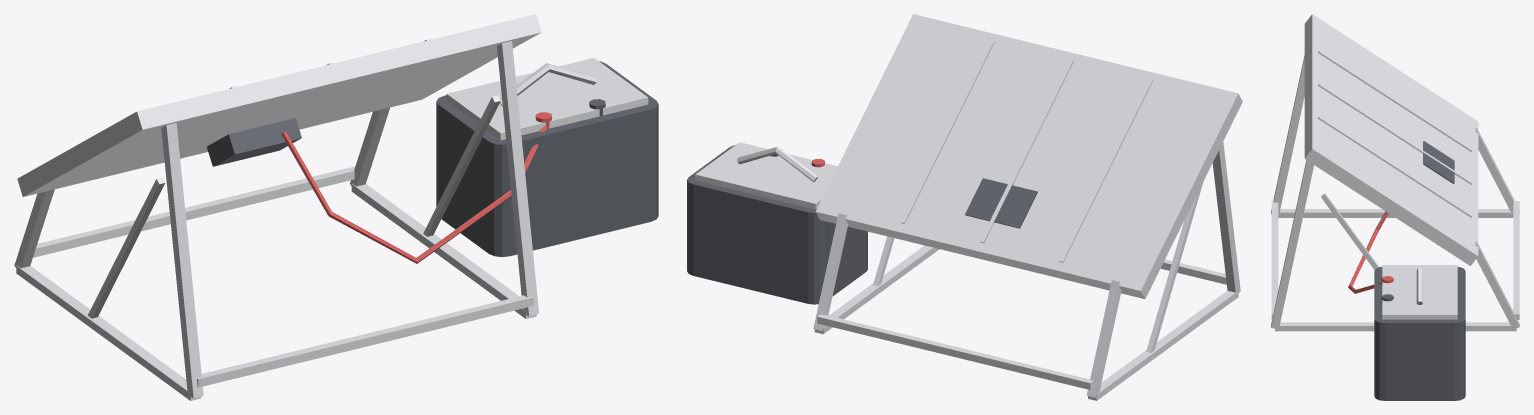
File: mountaineering-and-summit-expedition-solar-panel-and-b-53d02f9c__18802.glb
3 renders of one model, left to right at view 1: azimuth 30°, elevation 25°; view 2: azimuth 150°, elevation 25°; view 3: azimuth 270°, elevation 25°, orthographic. The views are drawn at different scales.
Visible parts, largest first — view 1: solar-panel-and-battery-box; view 2: solar-panel-and-battery-box; view 3: solar-panel-and-battery-box.
Part boxes in pixels (x1,y1,x2,y2): solar-panel-and-battery-box: [14, 14, 658, 400]; solar-panel-and-battery-box: [687, 14, 1242, 400]; solar-panel-and-battery-box: [1271, 14, 1519, 400].
Size of the model in its own units: 1.71 by 0.7961 by 0.9274.
